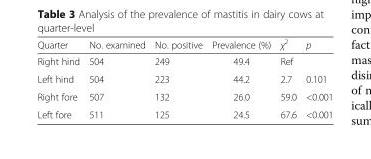table: (36, 37, 332, 119)
table column: (206, 37, 274, 119), (83, 37, 149, 119), (149, 37, 206, 119), (36, 37, 83, 119), (300, 37, 332, 119), (274, 37, 300, 119)
table column header: (36, 37, 332, 52)
table row: (36, 69, 332, 87), (36, 87, 332, 105), (36, 52, 332, 69), (36, 37, 332, 52), (36, 105, 332, 119)
